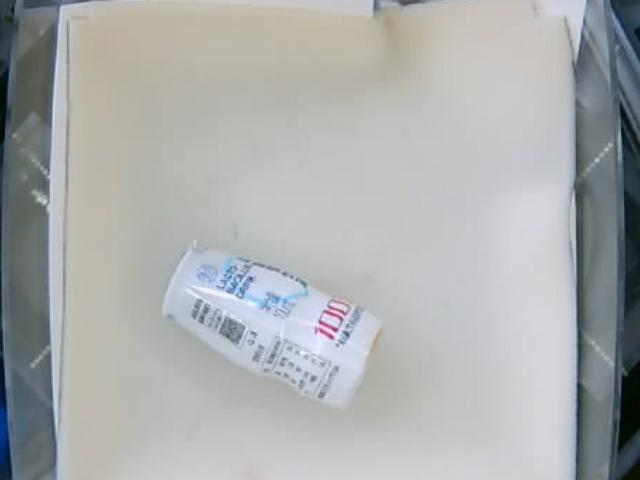Bottle: (161, 243, 384, 404)
